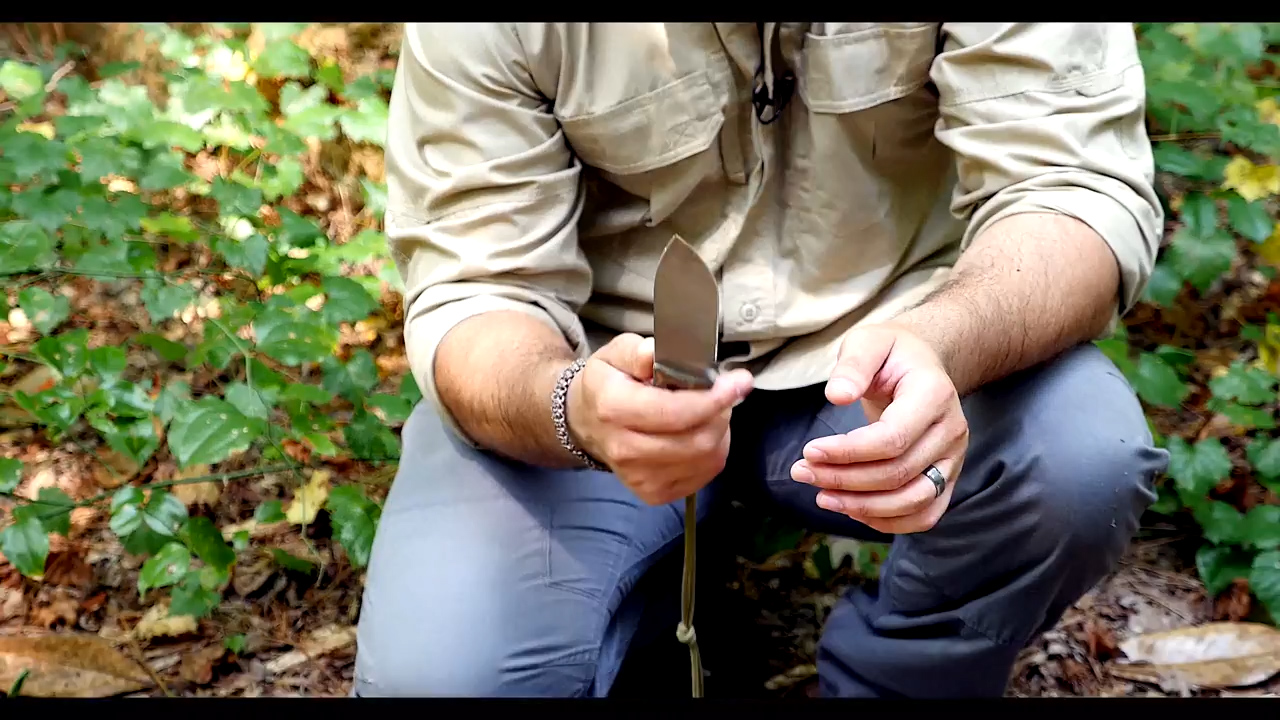knife: (618, 226, 757, 450)
